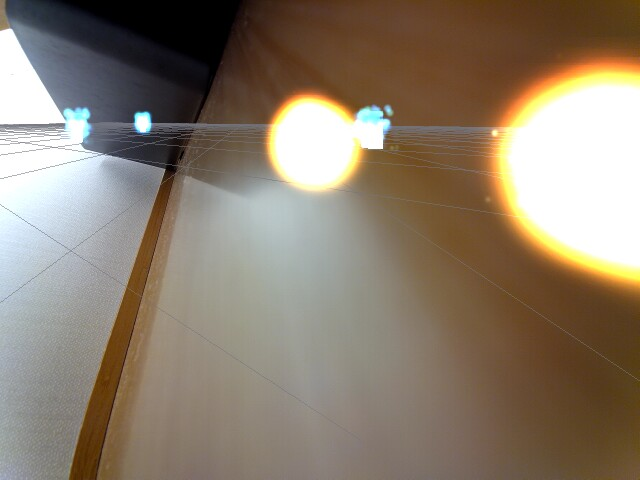fire: (487, 57, 638, 290), (265, 93, 362, 193)
